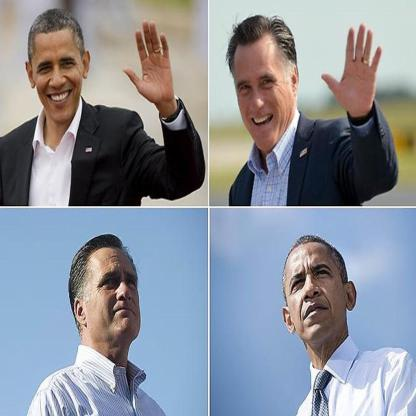face: (286, 240, 347, 344), (235, 41, 289, 154), (85, 251, 142, 338), (33, 25, 84, 122)
